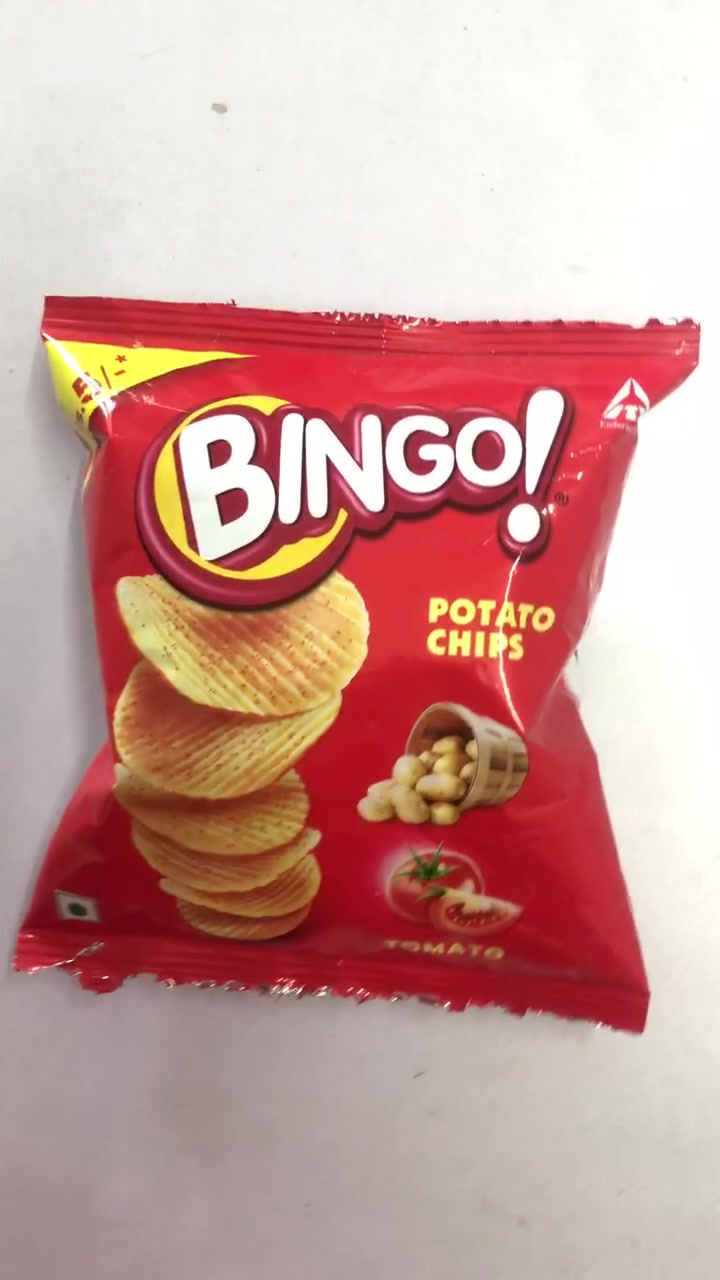Bingo: (44, 292, 662, 1028)
